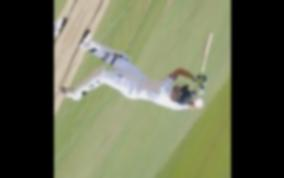batsman: (56, 27, 224, 137)
